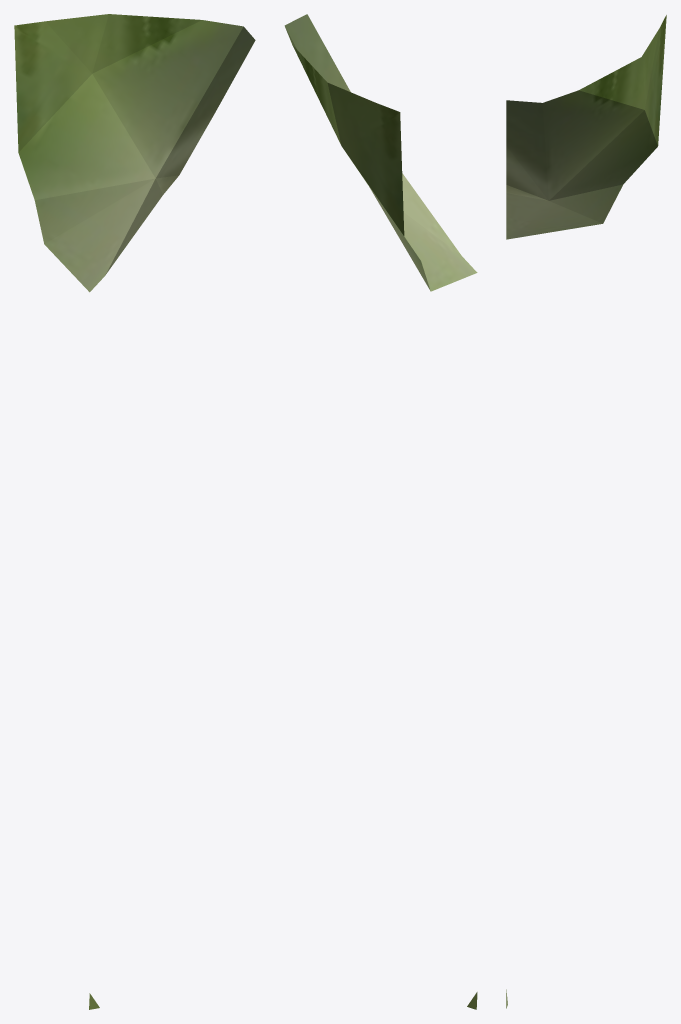
3 renders of one model, left to right at view 1: azimuth 30°, elevation 25°; view 2: azimuth 150°, elevation 25°; view 3: azimuth 270°, elevation 25°, orthographic. The views are drawn at different scales.
Size of the model in its own units: 0.5679 by 2.95 by 0.4334.
Materials: 1 (1 with a texture image).
